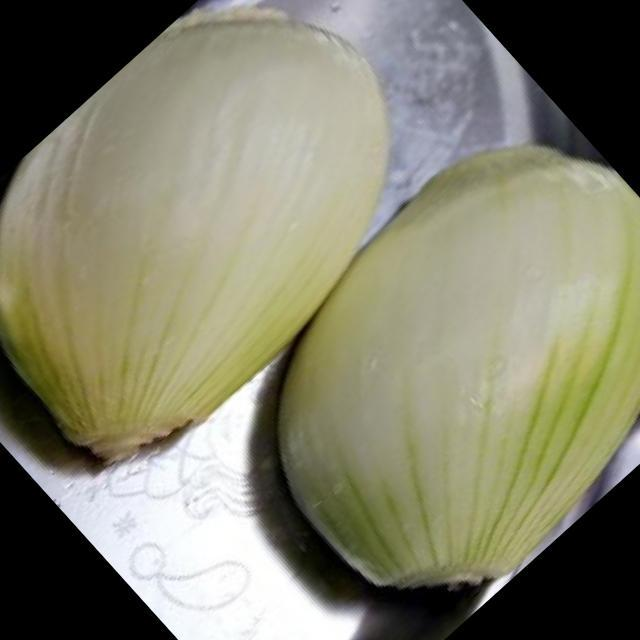Onion: (0, 19, 400, 452), (286, 156, 640, 595)
